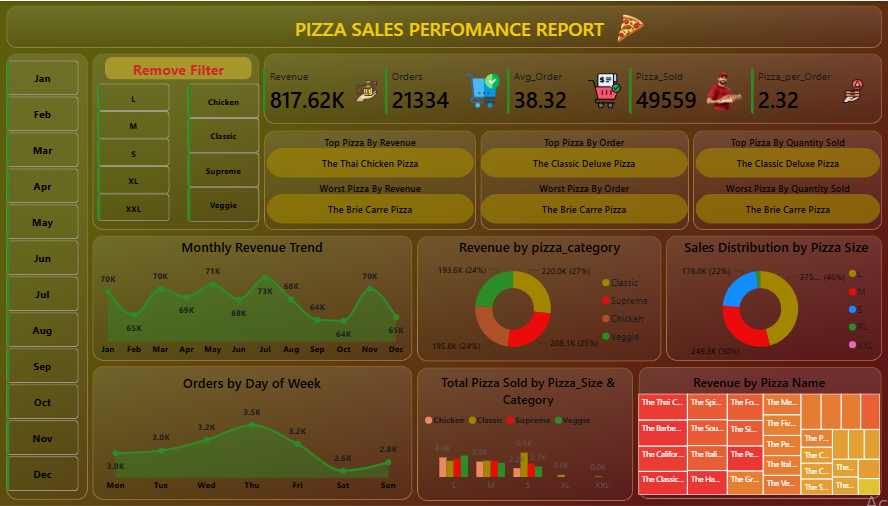

Layout of this report page (visuals, bound fields, positions):
{"tool":"powerbi","page":{"name":"DASHBOARD","canvas":[1280,720],"ordinal":0},"visuals":[{"type":"cardVisual","fields":{"Data":["Pizza_sales.Total_Revenue","Pizza_sales.Total_Orders","Pizza_sales.Avg_Order_Value","Pizza_sales.Total_Pizza_Sold","Pizza_sales.Avg_Pizza_per_Order"]},"box":[368,80,896,96],"z":0},{"type":"lineChart","title":"Monthly Revenue Trend","fields":{"Category":["Pizza_sales.Month Name"],"Y":["Pizza_sales.Total_Revenue"]},"box":[144,336,448,176],"z":1000},{"type":"lineChart","title":"Orders by Day of Week","fields":{"Y":["Pizza_sales.Total_Orders"],"Category":["Pizza_sales.Day Name"]},"box":[144,528,448,176],"z":2000},{"type":"donutChart","title":"Revenue by pizza_category","fields":{"Category":["Pizza_sales.pizza_category"],"Y":["Pizza_sales.Total_Revenue"]},"box":[608,336,336,176],"z":3000},{"type":"donutChart","title":"Sales Distribution by Pizza Size","fields":{"Y":["Pizza_sales.Total_Revenue"],"Category":["Pizza_sales.pizza_size"]},"box":[960,336,304,176],"z":4000},{"type":"clusteredColumnChart","title":"Total Pizza Sold by Pizza_Size & Category","fields":{"Y":["Pizza_sales.Total_Pizza_Sold"],"Category":["Pizza_sales.pizza_size"],"Series":["Pizza_sales.pizza_category"]},"box":[608,528,304,176],"z":5000},{"type":"treemap","title":"Revenue by Pizza Name","fields":{"Group":["Pizza_sales.pizza_name"],"Values":["Pizza_sales.Total_Revenue"]},"box":[912,528,352,176],"z":6000},{"type":"advancedSlicerVisual","fields":{"Values":["Pizza_sales.pizza_name"]},"box":[384,192,304,64],"z":7000},{"type":"advancedSlicerVisual","fields":{"Values":["Pizza_sales.pizza_name"]},"box":[384,256,304,64],"z":8000},{"type":"advancedSlicerVisual","fields":{"Values":["Pizza_sales.pizza_name"]},"box":[688,192,304,64],"z":9000},{"type":"advancedSlicerVisual","fields":{"Values":["Pizza_sales.pizza_name"]},"box":[688,256,304,64],"z":10000},{"type":"advancedSlicerVisual","title":"Top Pizza By Quantity Sold","fields":{"Values":["Pizza_sales.pizza_name"]},"box":[992,192,272,64],"z":11000},{"type":"advancedSlicerVisual","title":"Worst Pizza By Quantity Sold","fields":{"Values":["Pizza_sales.pizza_name"]},"box":[992,256,272,64],"z":12000},{"type":"advancedSlicerVisual","fields":{"Values":["Pizza_sales.Month Name"]},"box":[16,80,112,624],"z":13000},{"type":"advancedSlicerVisual","fields":{"Values":["Pizza_sales.pizza_size"]},"box":[144,112,112,208],"z":13001},{"type":"advancedSlicerVisual","fields":{"Values":["Pizza_sales.pizza_category"]},"box":[272,112,112,208],"z":13002},{"type":"actionButton","box":[160,80,208,32],"z":13003},{"type":"textbox","box":[32,16,1232,48],"z":13004},{"type":"image","box":[784,16,240,48],"z":13005}]}

Visuals, with their boxes in screenshot pixels (x1, y1, x2, y2), scaled from the page's 1280x720 canvas onto the 888x506 screenshot:
cardVisual - Pizza_sales.Total_Revenue x Pizza_sales.Total_Orders: (left=255, top=56, right=877, bottom=124)
"Monthly Revenue Trend" lineChart: (left=100, top=236, right=411, bottom=360)
"Orders by Day of Week" lineChart: (left=100, top=371, right=411, bottom=495)
"Revenue by pizza_category" donutChart: (left=422, top=236, right=655, bottom=360)
"Sales Distribution by Pizza Size" donutChart: (left=666, top=236, right=877, bottom=360)
"Total Pizza Sold by Pizza_Size & Category" clusteredColumnChart: (left=422, top=371, right=633, bottom=495)
"Revenue by Pizza Name" treemap: (left=633, top=371, right=877, bottom=495)
advancedSlicerVisual - Pizza_sales.pizza_name: (left=266, top=135, right=477, bottom=180)
advancedSlicerVisual - Pizza_sales.pizza_name: (left=266, top=180, right=477, bottom=225)
advancedSlicerVisual - Pizza_sales.pizza_name: (left=477, top=135, right=688, bottom=180)
advancedSlicerVisual - Pizza_sales.pizza_name: (left=477, top=180, right=688, bottom=225)
"Top Pizza By Quantity Sold" advancedSlicerVisual: (left=688, top=135, right=877, bottom=180)
"Worst Pizza By Quantity Sold" advancedSlicerVisual: (left=688, top=180, right=877, bottom=225)
advancedSlicerVisual - Pizza_sales.Month Name: (left=11, top=56, right=89, bottom=495)
advancedSlicerVisual - Pizza_sales.pizza_size: (left=100, top=79, right=178, bottom=225)
advancedSlicerVisual - Pizza_sales.pizza_category: (left=189, top=79, right=266, bottom=225)
actionButton: (left=111, top=56, right=255, bottom=79)
textbox: (left=22, top=11, right=877, bottom=45)
image: (left=544, top=11, right=710, bottom=45)
